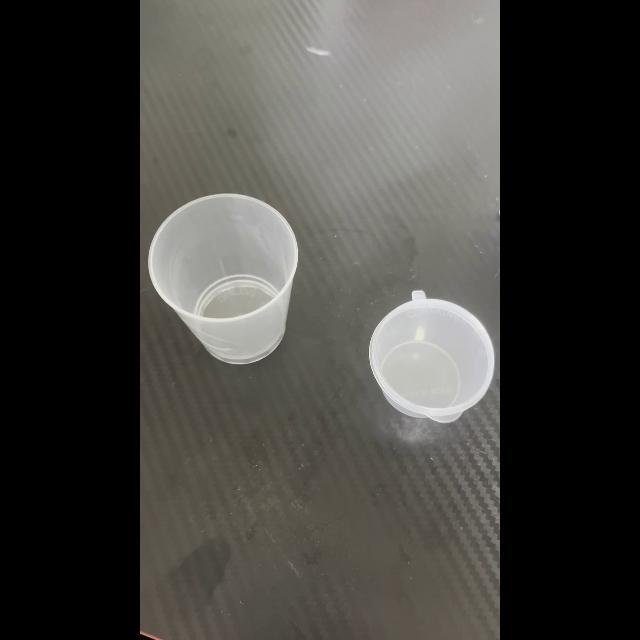clean: (147, 194, 299, 360), (368, 294, 496, 422)
